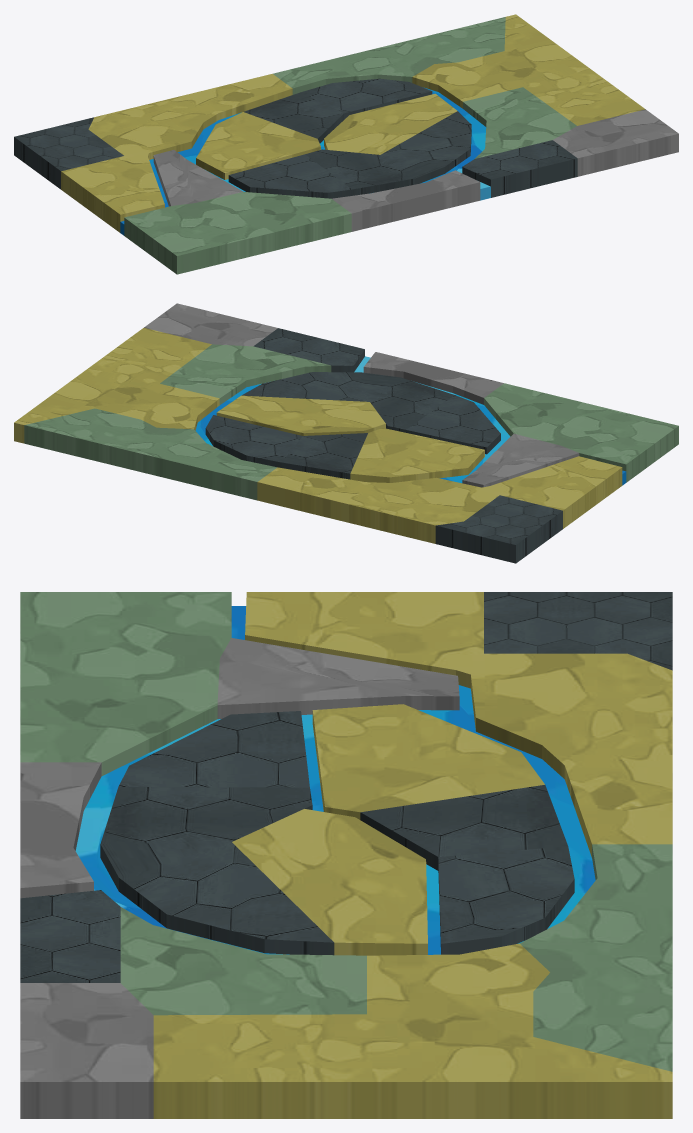
The model's file is MapTile.fbx.
3 renders of one model, top to bottom at view 1: azimuth 30°, elevation 25°; view 2: azimuth 150°, elevation 25°; view 3: azimuth 270°, elevation 25°, orthographic. The views are drawn at different scales.
Parts seen in each view (by area): view 1: Forest.007, Map 3, Forest.006, Farm.009, Farm.010, Forest.008, Farm.016, Mountain.009, Forest.009, Farm.012, Farm.015, Farm.014 (+13 smaller); view 2: Forest.009, Farm.014, Urban.010, Farm.009, Forest.008, Farm.016, Farm.010, Forest.005, Forest.007, Forest.006, Farm.015, Farm.012 (+13 smaller); view 3: Farm.011, Forest.007, Farm.016, Farm.013, Farm.009, Forest.008, Mountain.009, Urban.014, Farm.015, Farm.010, Farm.012, Forest.009 (+13 smaller).
Boxes of the visible parts, box(x1,y1,x2,y2) form: Forest.007: box(195, 192, 351, 261); Map 3: box(14, 144, 678, 274); Forest.006: box(124, 203, 228, 273); Farm.009: box(196, 112, 320, 179); Farm.010: box(61, 156, 164, 231); Forest.008: box(463, 87, 576, 158); Farm.016: box(324, 93, 457, 154); Mountain.009: box(553, 109, 678, 168); Forest.009: box(273, 41, 433, 94); Farm.012: box(412, 51, 549, 108); Farm.015: box(88, 108, 203, 159); Farm.014: box(133, 74, 292, 129); Forest.009: box(126, 427, 276, 499); Farm.014: box(257, 467, 396, 533); Urban.010: box(435, 495, 562, 563); Farm.009: box(350, 428, 484, 482); Forest.008: box(160, 344, 331, 404); Farm.016: box(216, 395, 385, 435); Farm.010: box(490, 456, 622, 528); Forest.005: box(24, 408, 156, 468); Forest.007: box(484, 383, 626, 445); Forest.006: box(561, 413, 678, 481); Farm.015: box(391, 477, 499, 543); Farm.012: box(95, 375, 219, 430); Farm.011: box(352, 1037, 672, 1118); Forest.007: box(20, 642, 219, 775); Farm.016: box(232, 809, 427, 955); Farm.013: box(153, 1014, 366, 1118); Farm.009: box(312, 704, 544, 819); Forest.008: box(120, 907, 366, 1015); Mountain.009: box(20, 983, 153, 1118); Urban.014: box(100, 842, 334, 955); Farm.015: box(456, 653, 672, 758); Farm.010: box(245, 592, 483, 675); Farm.012: box(353, 943, 549, 1036); Forest.009: box(520, 844, 672, 972).
Size of the model in its own units: 192000 by 6758 by 108000.
Materials: 5 (5 with a texture image).
